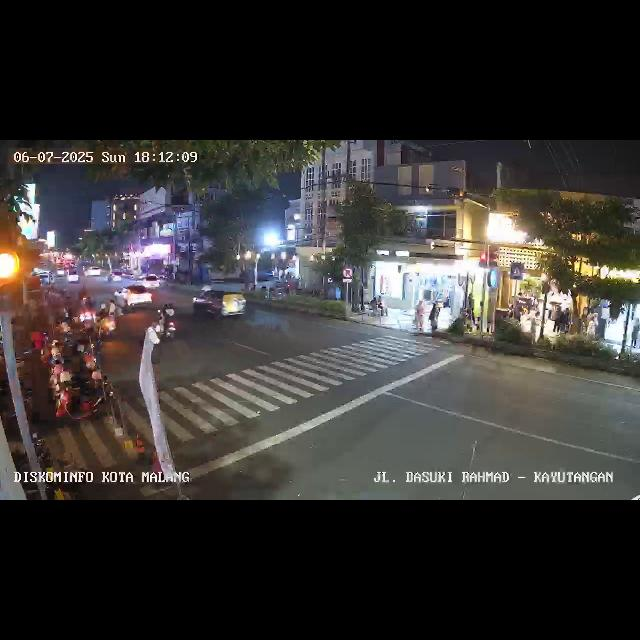car: (192, 286, 248, 322), (111, 282, 155, 312)
motorcycle: (156, 304, 178, 344), (96, 300, 118, 340)
person: (413, 298, 425, 332), (560, 304, 572, 336), (550, 302, 560, 336), (429, 302, 439, 334), (530, 310, 540, 342), (632, 318, 640, 350)
